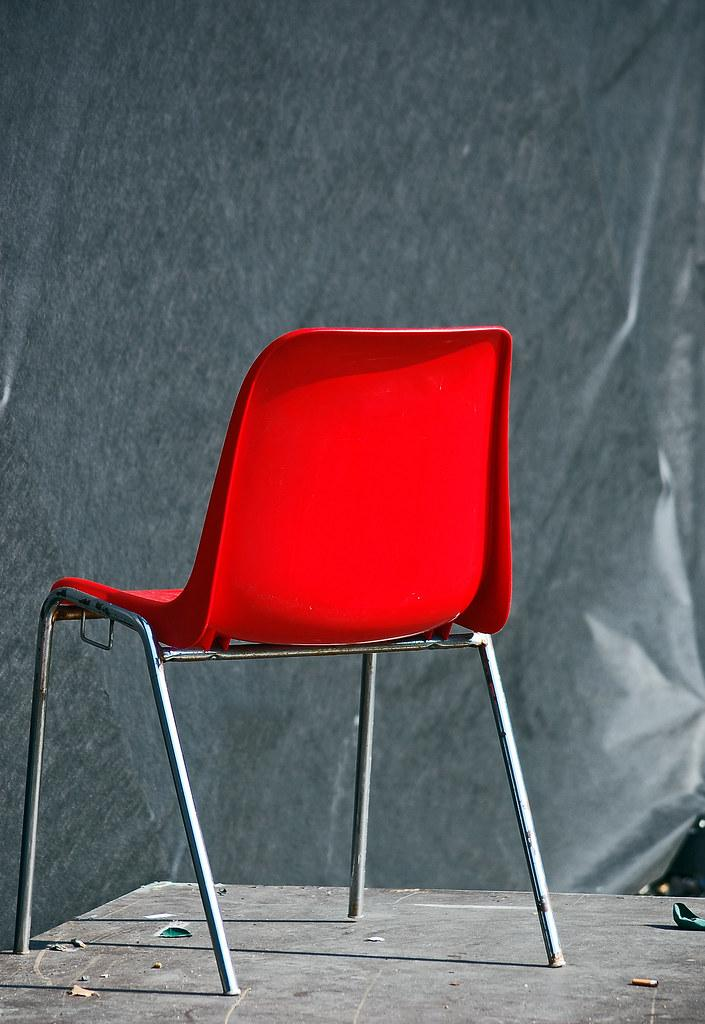chair: (13, 325, 568, 996)
